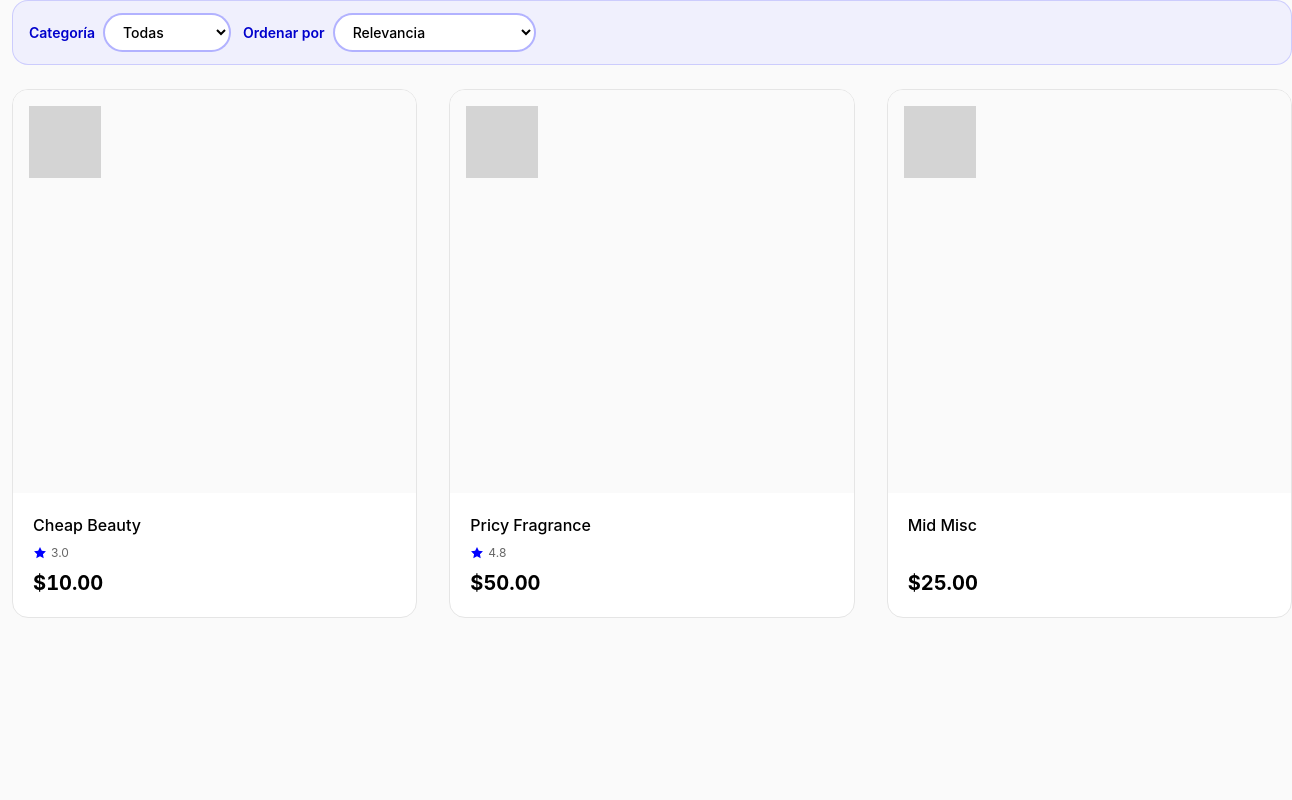
Test case: ProductListingV2 › fetches category-scoped products from the server when a category is chosen
The image size is (1292, 800).
Select "beauty" in the dropdown labelled "Categoría" at (167, 32), box [103,13,231,52]
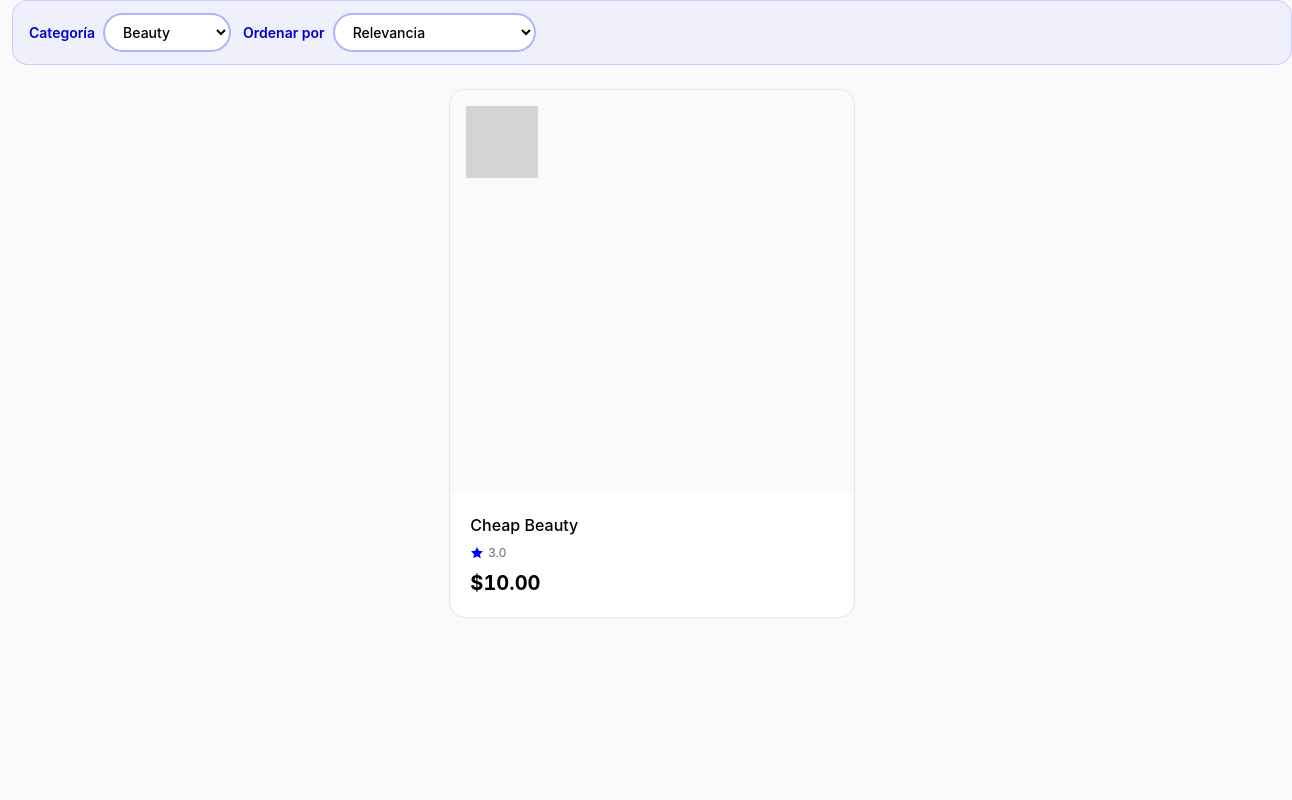
Expected: the number of links "Cheap Beauty 3.0 $10.00" is 1, [449,89,855,618]
Expected: the link "Pricy Fragrance" is gone
